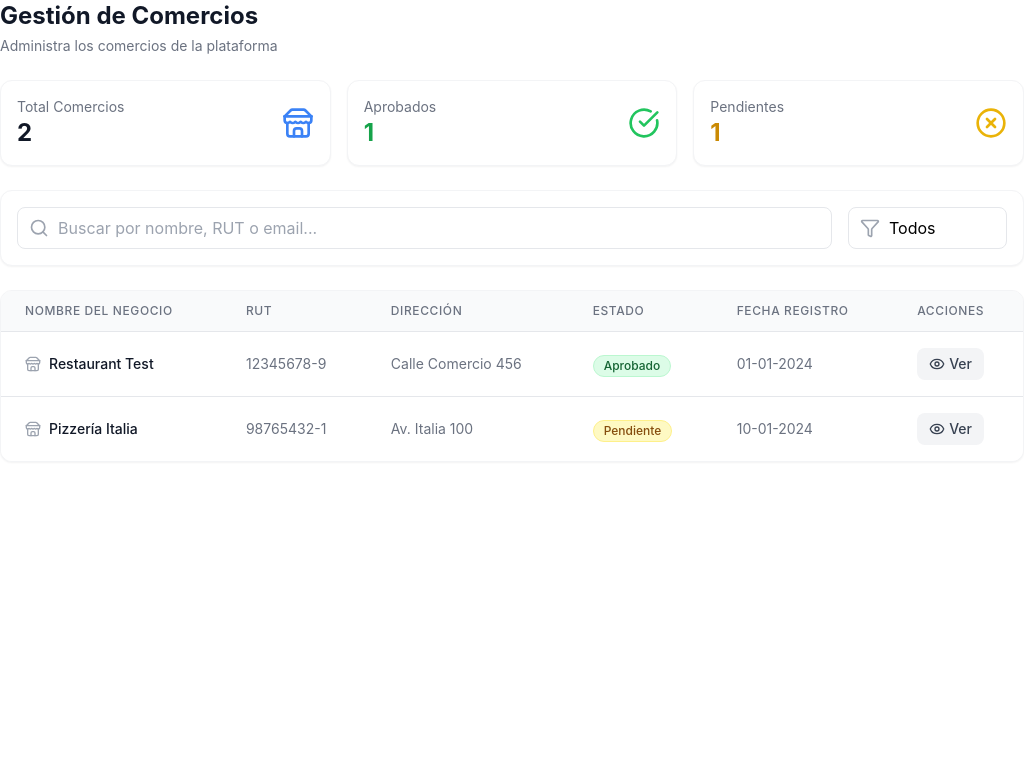
Test: Merchants Component › Modal de detalle › debe abrir modal al hacer clic en Ver
expect the text "Restaurant Test" is shown: met, box [49,354,154,374]
Click the button "Ver" in the row of "Restaurant Test" at (951, 364), box [917,348,984,380]
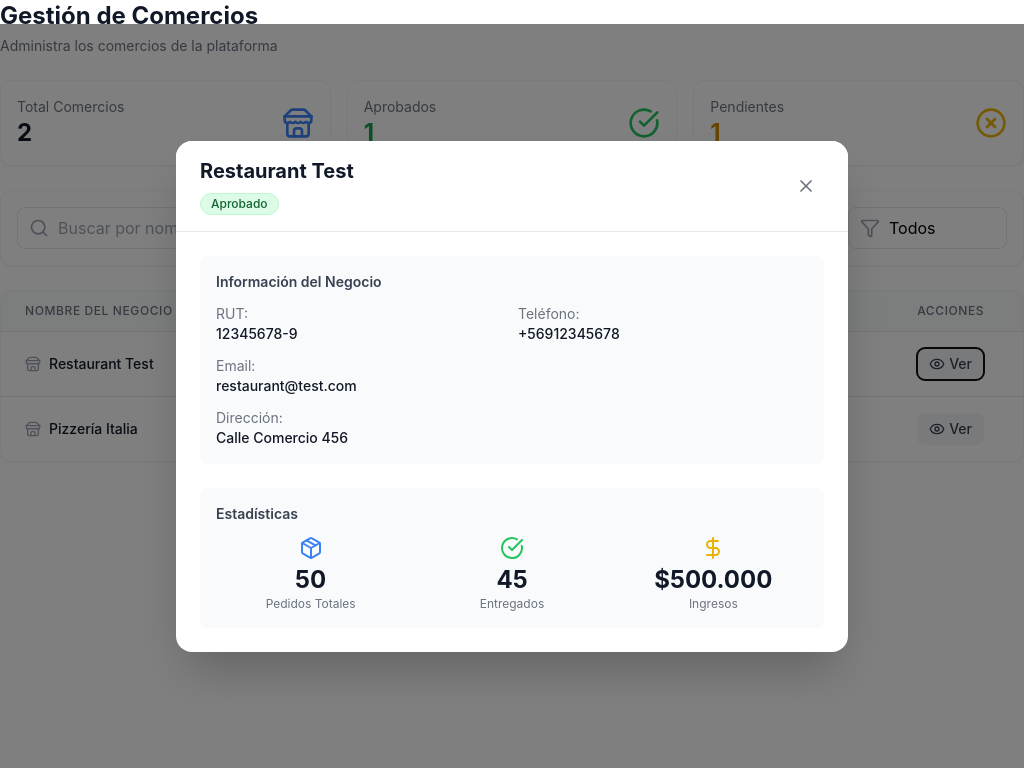
expect the text "Restaurant Test" is shown: met, box [49,354,154,374]
expect the text "50" is shown: met, box [295,564,326,594]
